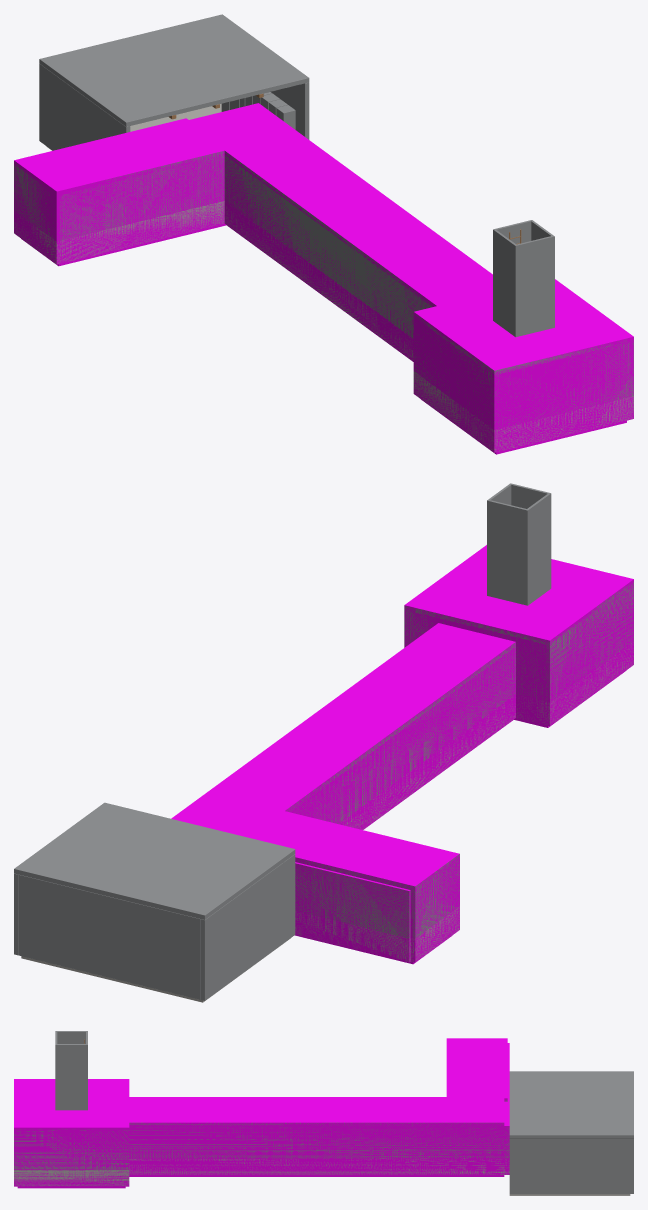
The model's file is l3-drowned.glb.
3 views of the same model, one above another, from view 1: azimuth 30°, elevation 25°; view 2: azimuth 150°, elevation 25°; view 3: azimuth 270°, elevation 25° (orthographic). The views are drawn at different scales.
Visible parts, largest first — view 1: COL_L3, L3_Shell, FLOOD_Room; view 2: COL_L3, FLOOD_Room, L3_Shell; view 3: COL_L3, FLOOD_Room, L3_Shell.
Part boxes in pixels (x1,y1,x2,y2): COL_L3: (14, 103, 633, 454); L3_Shell: (14, 151, 633, 452); FLOOD_Room: (39, 14, 309, 150); COL_L3: (171, 545, 633, 964); FLOOD_Room: (14, 802, 295, 1002); L3_Shell: (286, 483, 633, 961); COL_L3: (14, 1038, 509, 1188); FLOOD_Room: (509, 1071, 633, 1195); L3_Shell: (14, 1031, 509, 1186).
Size of the model in its own units: 13.6 by 7.8 by 34.4.
